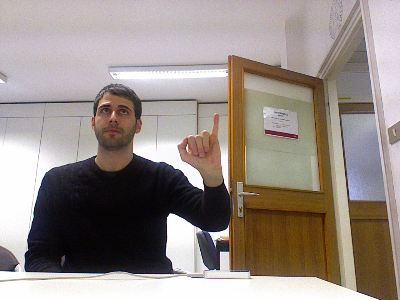小指: (176, 111, 223, 172)
